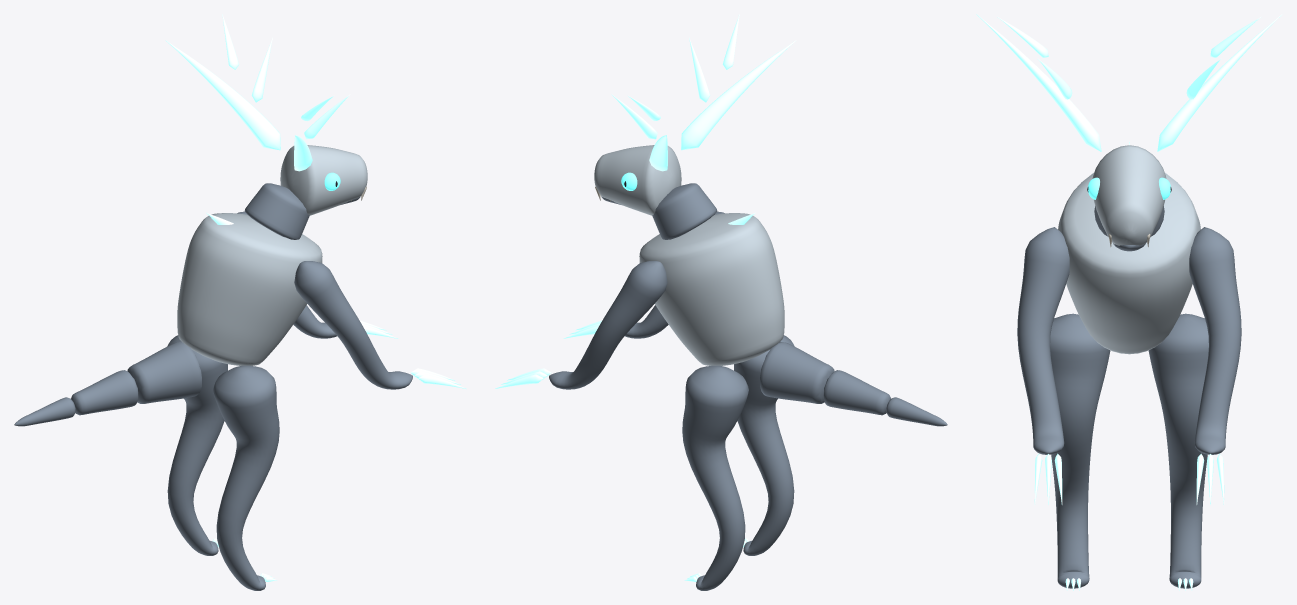
File: boss_wendigo.glb
3 renders of one model, left to right at view 1: azimuth 30°, elevation 25°; view 2: azimuth 150°, elevation 25°; view 3: azimuth 270°, elevation 25°, orthographic. The views are drawn at different scales.
Parts seen in each view (by area): view 1: Wendigo_Torso, Bone_Leg1_Limb, Bone_Leg0_Limb, Bone_Arm1_Limb, Wendigo_Skull, WendigoTailSeg_0, Wendigo_Neck, WendigoTailSeg_1, AntlerMain_L, WendigoTailSeg_2, Bone_Arm0_Limb; view 2: Wendigo_Torso, Bone_Leg0_Limb, Bone_Leg1_Limb, Bone_Arm0_Limb, Wendigo_Skull, WendigoTailSeg_0, Wendigo_Neck, WendigoTailSeg_1, AntlerMain_R, WendigoTailSeg_2, Bone_Arm1_Limb; view 3: Wendigo_Torso, Bone_Leg0_Limb, Bone_Leg1_Limb, Bone_Arm0_Limb, Bone_Arm1_Limb, Wendigo_Skull, AntlerMain_L, AntlerMain_R.
Part boxes in pixels (x1,y1,x2,y2): Wendigo_Torso: [177, 213, 322, 365]; Bone_Leg1_Limb: [213, 365, 279, 590]; Bone_Leg0_Limb: [167, 335, 227, 555]; Bone_Arm1_Limb: [294, 261, 412, 389]; Wendigo_Skull: [280, 145, 367, 215]; WendigoTailSeg_0: [127, 341, 201, 403]; Wendigo_Neck: [244, 183, 309, 239]; WendigoTailSeg_1: [71, 370, 138, 415]; AntlerMain_L: [165, 40, 280, 150]; WendigoTailSeg_2: [14, 397, 75, 426]; Bone_Arm0_Limb: [237, 211, 336, 338]; Wendigo_Torso: [639, 213, 784, 365]; Bone_Leg0_Limb: [682, 365, 748, 590]; Bone_Leg1_Limb: [734, 335, 794, 555]; Bone_Arm0_Limb: [549, 261, 667, 389]; Wendigo_Skull: [594, 145, 681, 215]; WendigoTailSeg_0: [760, 341, 834, 403]; Wendigo_Neck: [652, 183, 717, 239]; WendigoTailSeg_1: [823, 370, 890, 415]; AntlerMain_R: [681, 40, 796, 150]; WendigoTailSeg_2: [886, 397, 947, 426]; Bone_Arm1_Limb: [625, 211, 724, 338]; Wendigo_Torso: [1058, 173, 1200, 354]; Bone_Leg0_Limb: [1148, 313, 1208, 588]; Bone_Leg1_Limb: [1050, 313, 1110, 588]; Bone_Arm0_Limb: [1189, 227, 1241, 454]; Bone_Arm1_Limb: [1017, 227, 1069, 454]; Wendigo_Skull: [1092, 145, 1166, 245]; AntlerMain_L: [1157, 14, 1282, 151]; AntlerMain_R: [976, 14, 1101, 151].
Size of the model in its own units: 3.61 by 4.23 by 1.97.
